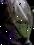with_mask: (1, 2, 34, 45)
